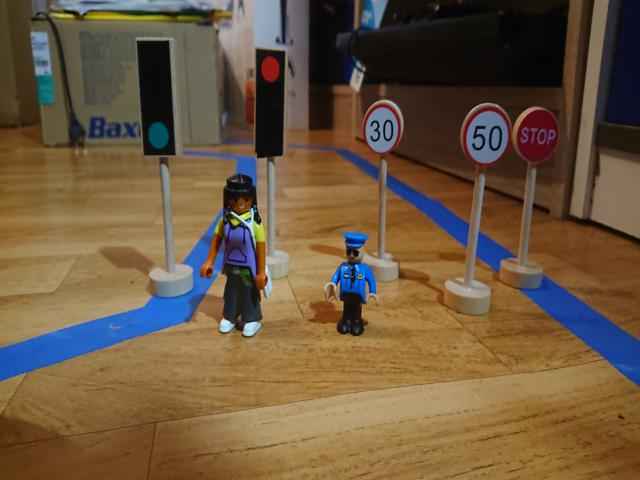30 speed sign: (362, 100, 406, 156)
50 speed sign: (458, 105, 511, 167)
green light: (139, 45, 174, 152)
person: (197, 171, 266, 339), (323, 231, 377, 336)
red light: (256, 50, 283, 155)
stop sign: (517, 106, 560, 164)
